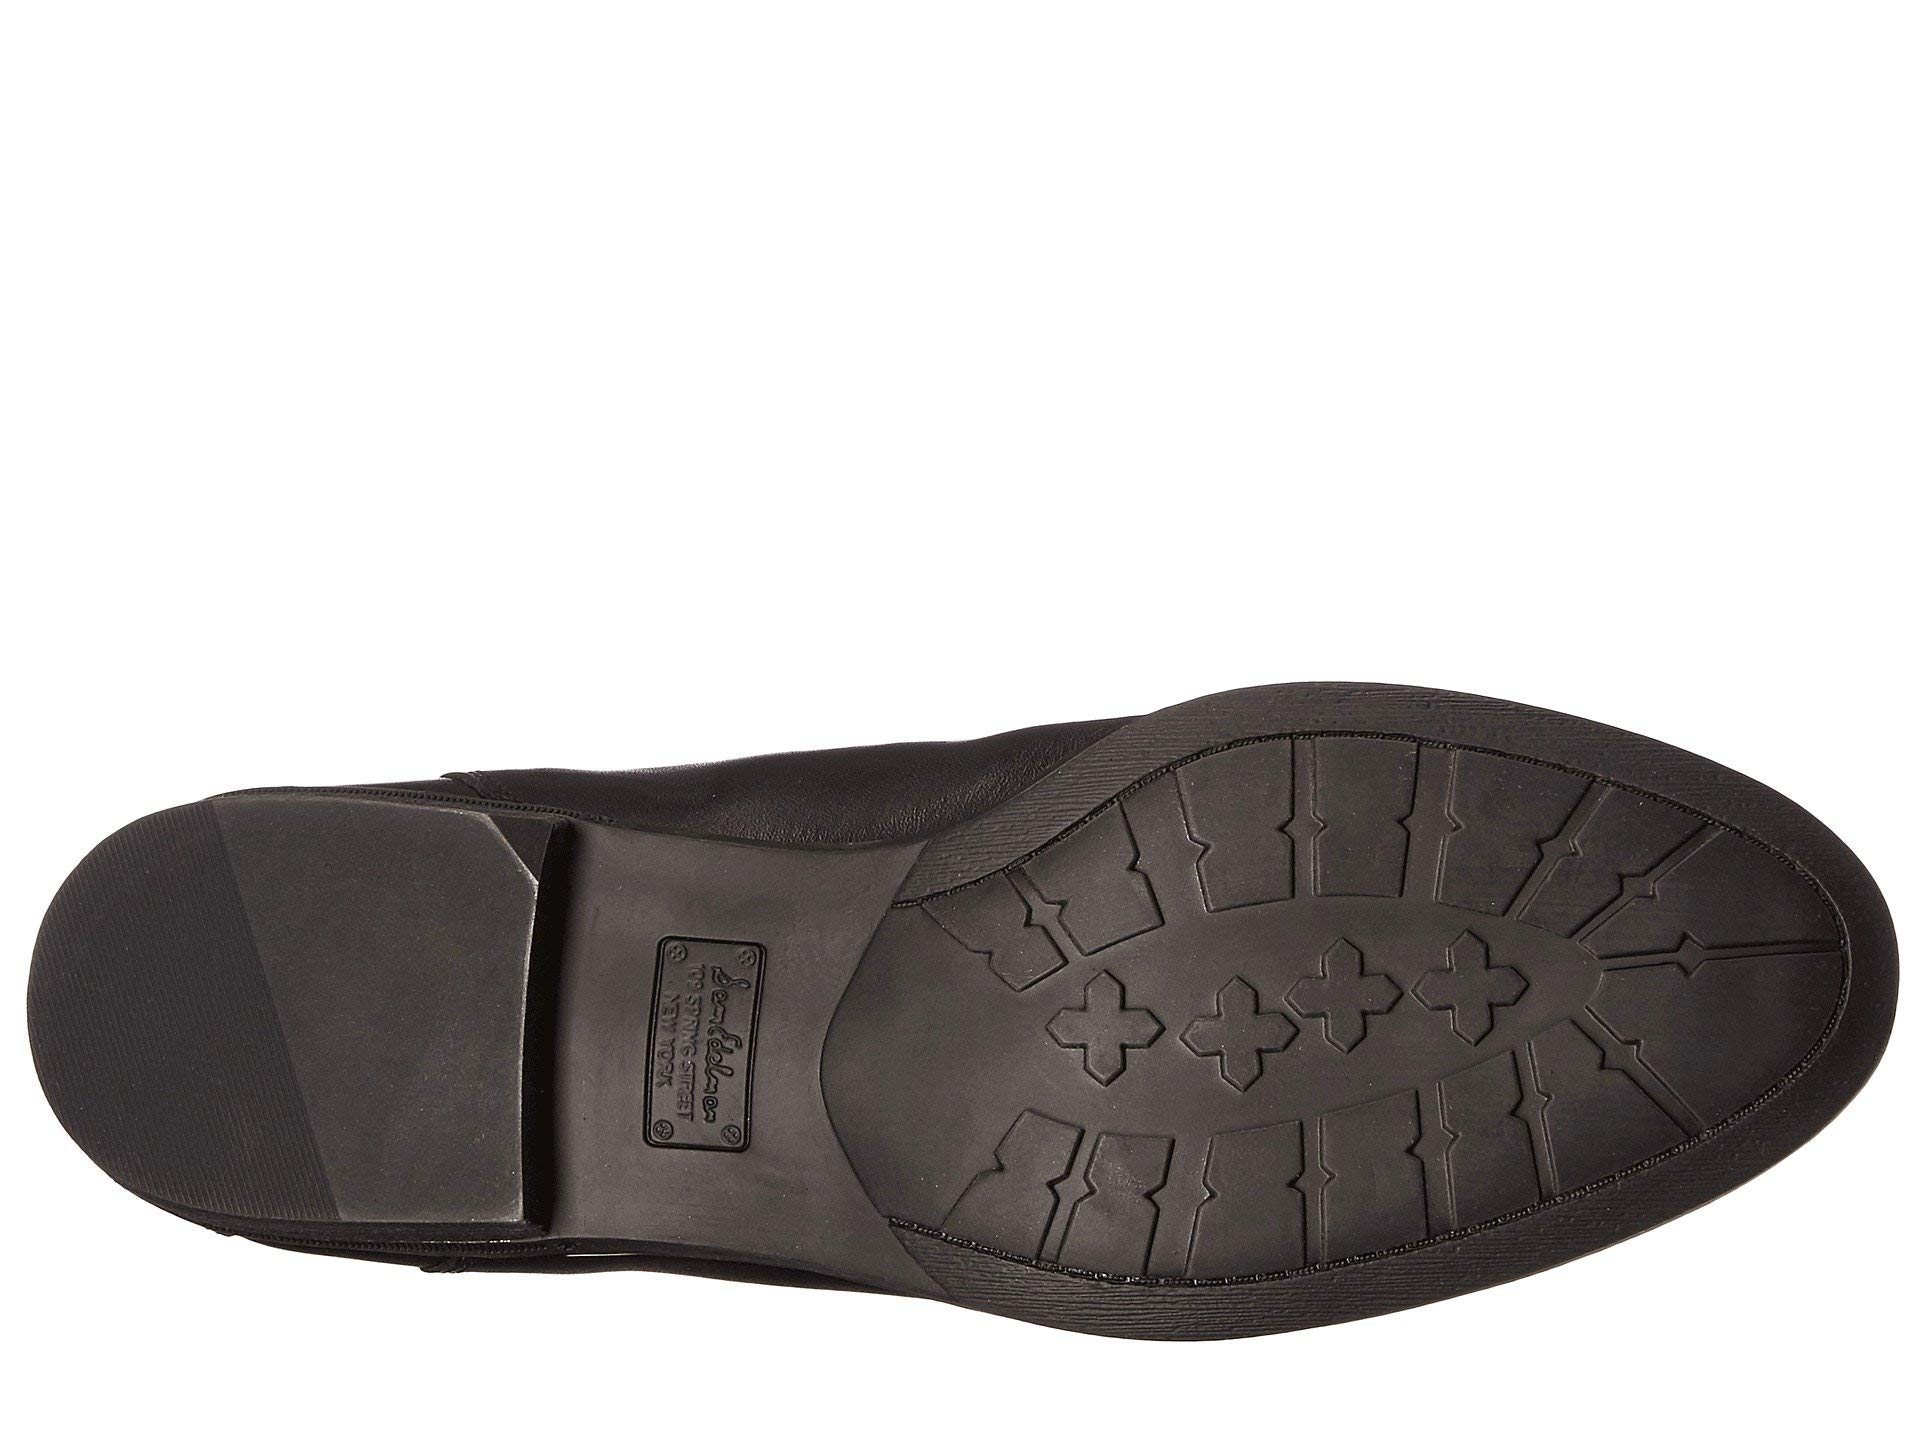circle: (596, 892, 785, 1175)
line: (180, 791, 573, 1225), (1255, 687, 1625, 794)
quad: (180, 791, 573, 1225), (596, 892, 785, 1175)
star: (1028, 927, 1533, 1094)
text: (596, 892, 785, 1175)
